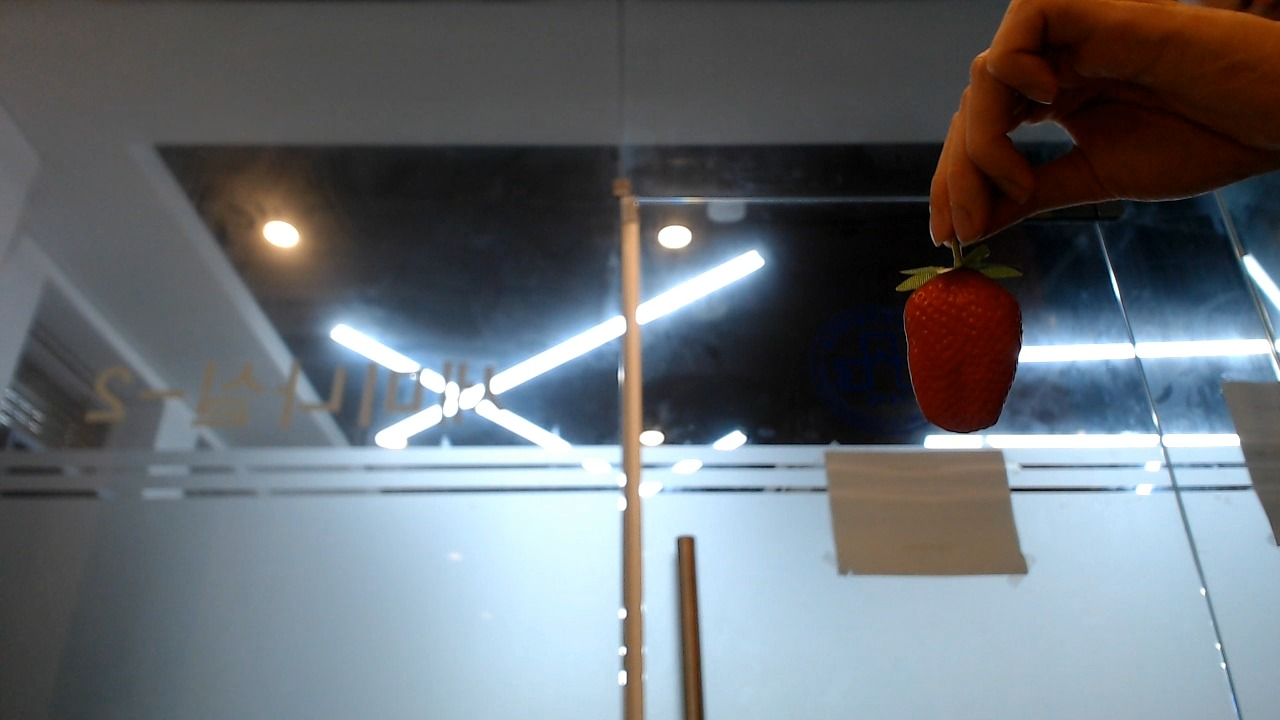strawberry: (889, 256, 1034, 436)
